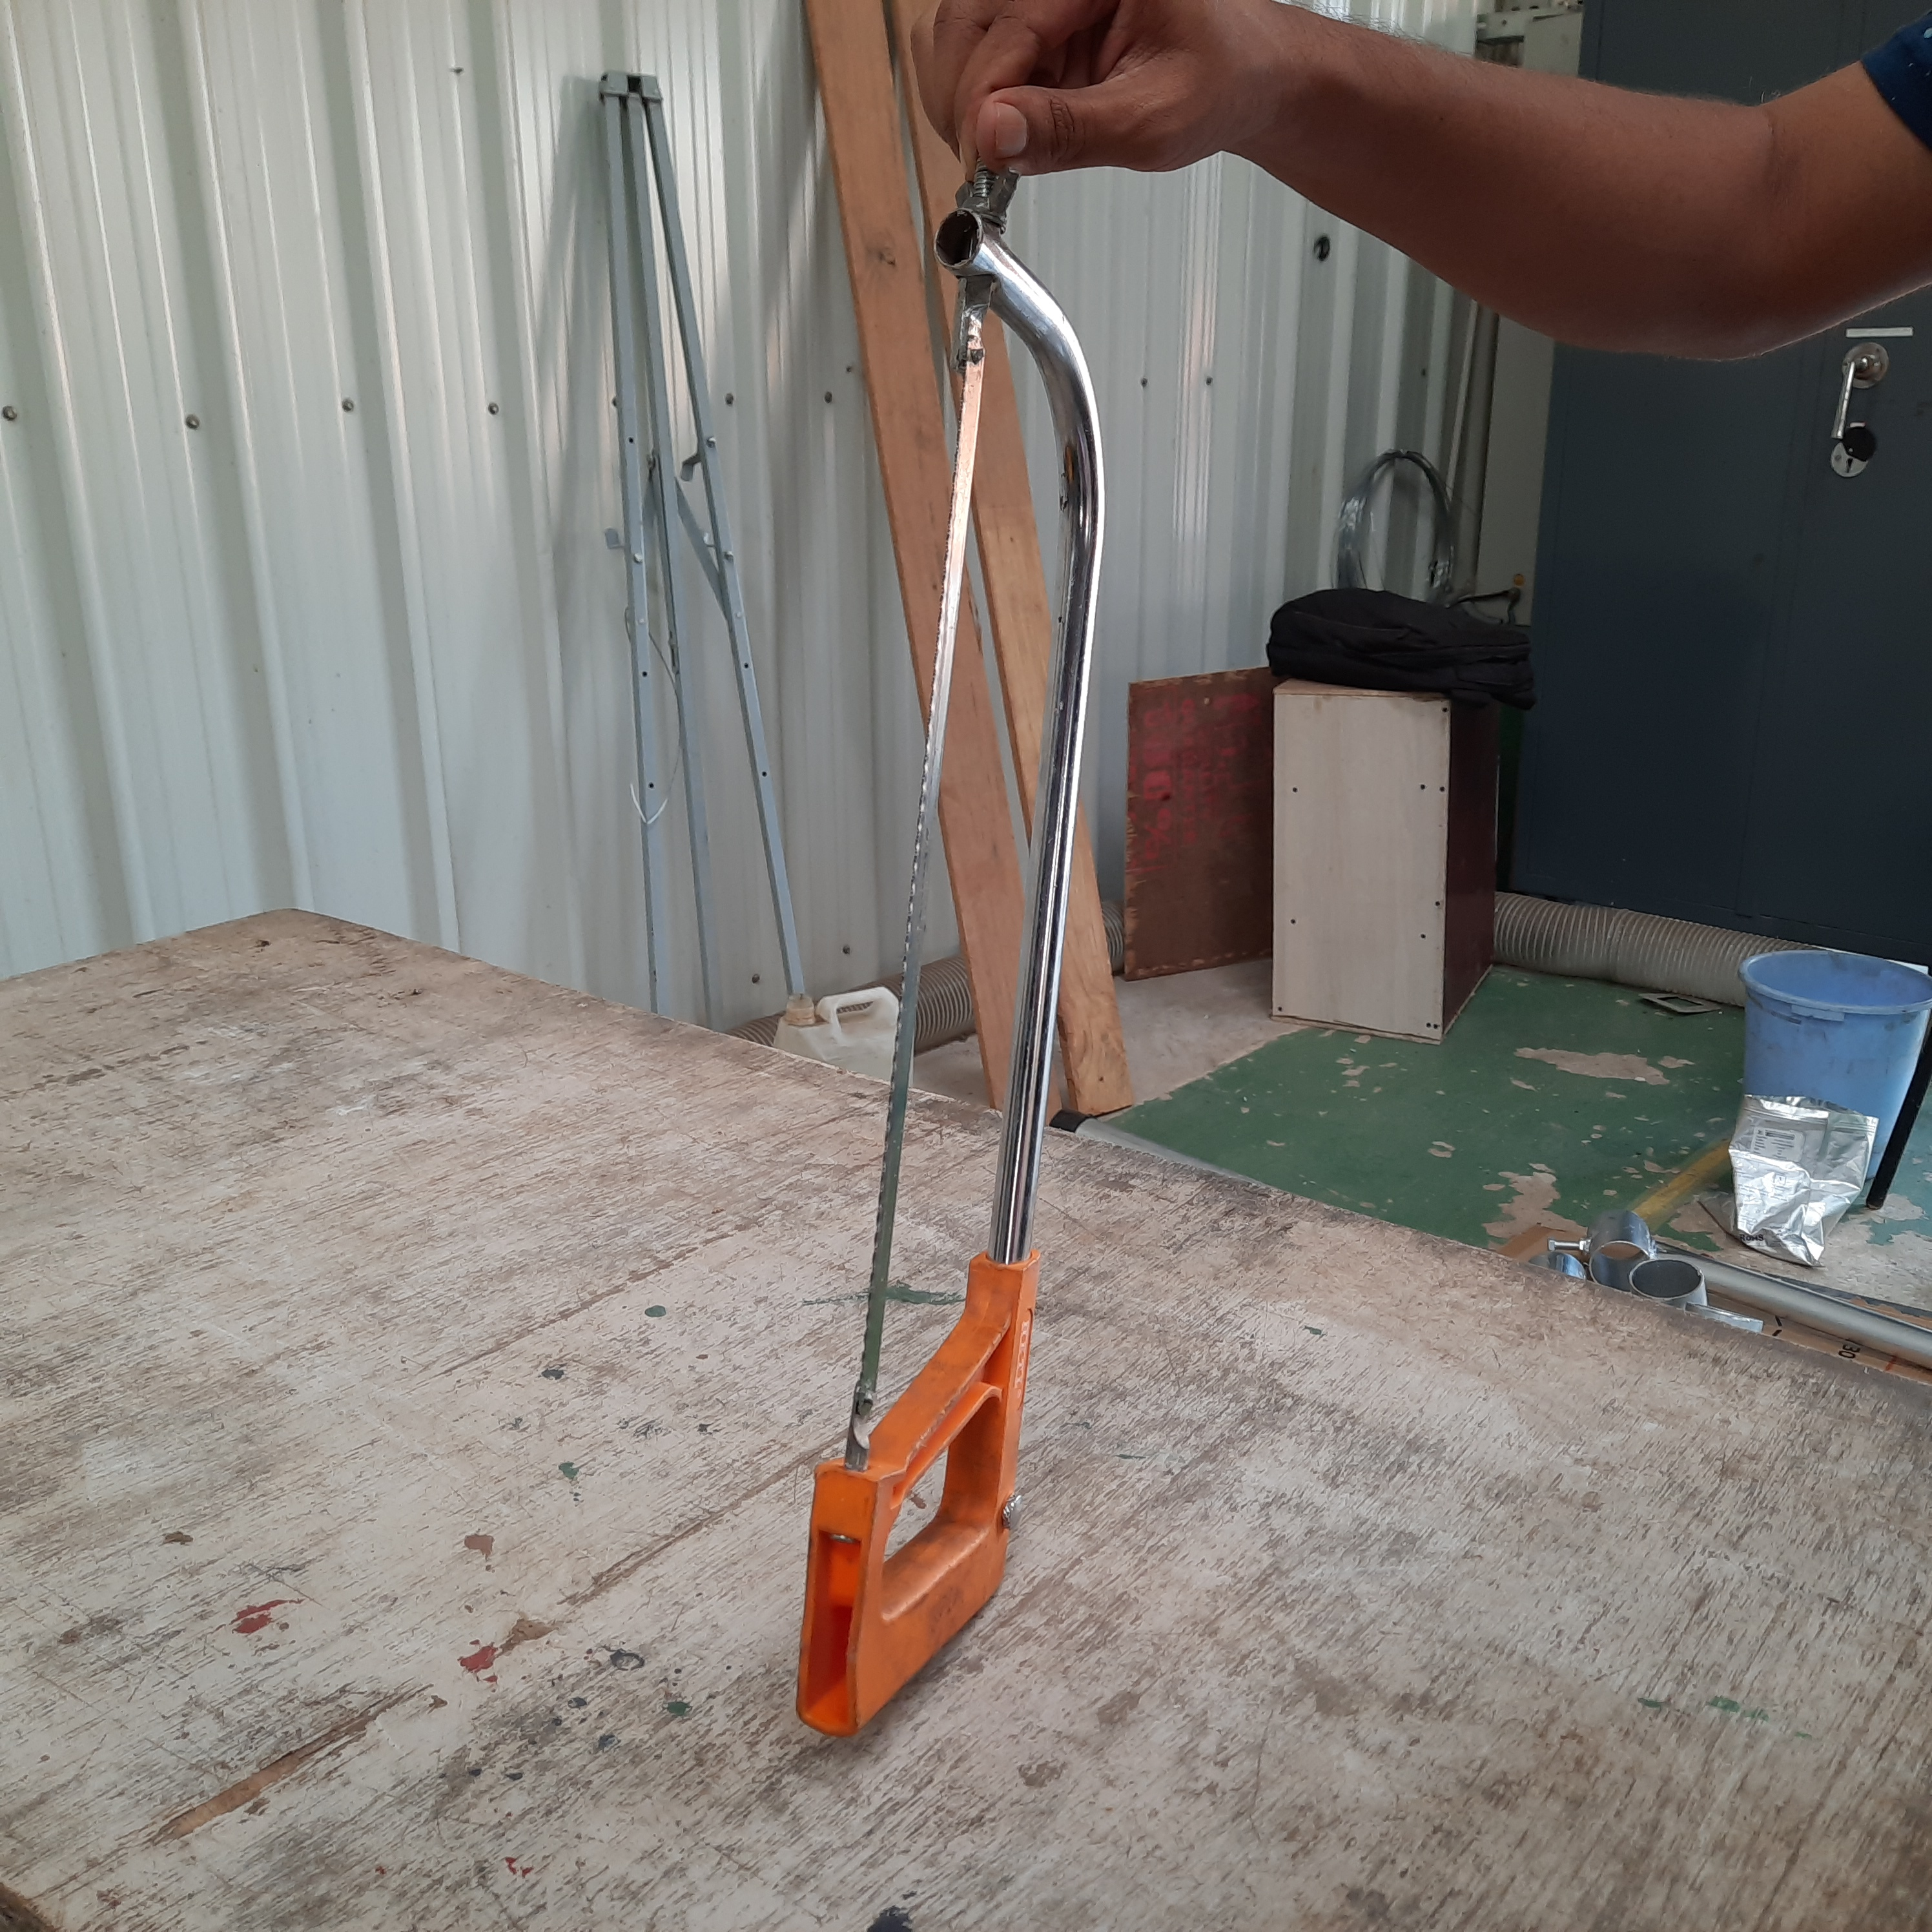Hexaframe: (830, 127, 1123, 1706)
